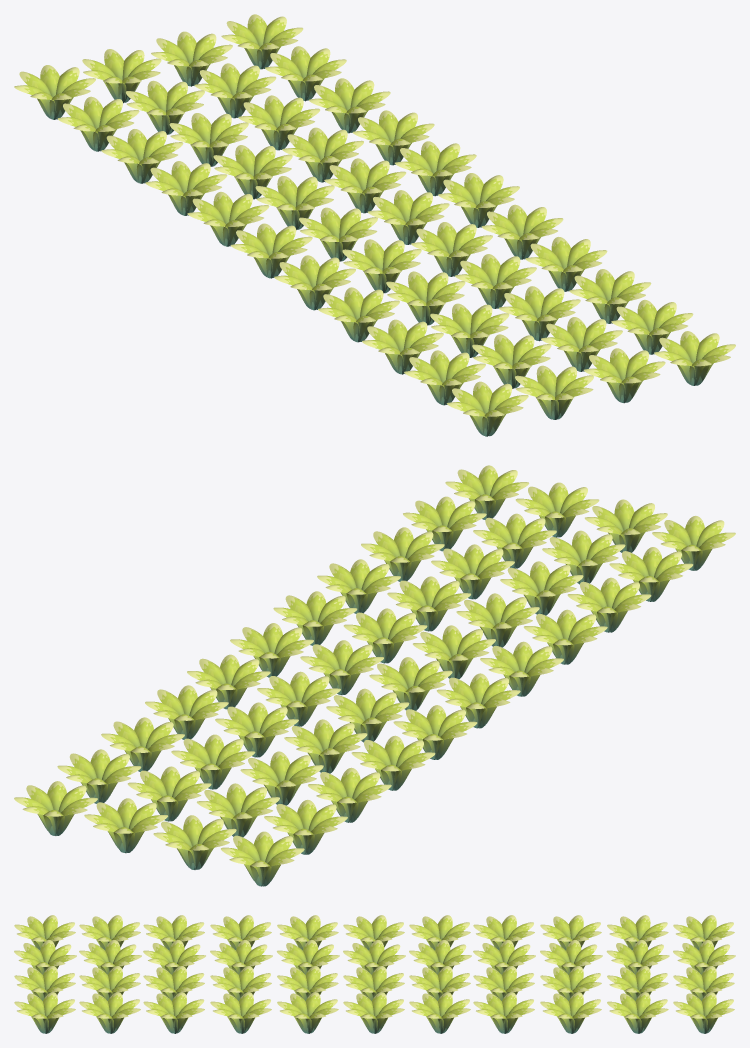
Rendered from semak.fbx.
3 views of the same model, one above another, from view 1: azimuth 30°, elevation 25°; view 2: azimuth 150°, elevation 25°; view 3: azimuth 270°, elevation 25° (orthographic). The views are drawn at different scales.
Parts seen in each view (by area): view 1: ASET SEMAK UNWRAP.003, semak.003|ASET SEMAK UNWRAP.003|Dupli|, semak.002|ASET SEMAK UNWRAP.003|Dupli|, semak.007|ASET SEMAK UNWRAP.003|Dupli|, semak.008|ASET SEMAK UNWRAP.003|Dupli|, semak.009|ASET SEMAK UNWRAP.003|Dupli|, semak.004|ASET SEMAK UNWRAP.003|Dupli|, semak.005|ASET SEMAK UNWRAP.003|Dupli|, semak|ASET SEMAK UNWRAP.003|Dupli|, semak.001|ASET SEMAK UNWRAP.003|Dupli|, semak.006|ASET SEMAK UNWRAP.003|Dupli|; view 2: semak.009|ASET SEMAK UNWRAP.003|Dupli|, semak.006|ASET SEMAK UNWRAP.003|Dupli|, semak.007|ASET SEMAK UNWRAP.003|Dupli|, semak.002|ASET SEMAK UNWRAP.003|Dupli|, semak.001|ASET SEMAK UNWRAP.003|Dupli|, semak.008|ASET SEMAK UNWRAP.003|Dupli|, semak.004|ASET SEMAK UNWRAP.003|Dupli|, semak.003|ASET SEMAK UNWRAP.003|Dupli|, ASET SEMAK UNWRAP.003, semak.005|ASET SEMAK UNWRAP.003|Dupli|, semak|ASET SEMAK UNWRAP.003|Dupli|; view 3: semak.001|ASET SEMAK UNWRAP.003|Dupli|, semak.006|ASET SEMAK UNWRAP.003|Dupli|, semak|ASET SEMAK UNWRAP.003|Dupli|, semak.009|ASET SEMAK UNWRAP.003|Dupli|, ASET SEMAK UNWRAP.003, semak.002|ASET SEMAK UNWRAP.003|Dupli|, semak.007|ASET SEMAK UNWRAP.003|Dupli|, semak.008|ASET SEMAK UNWRAP.003|Dupli|, semak.005|ASET SEMAK UNWRAP.003|Dupli|, semak.003|ASET SEMAK UNWRAP.003|Dupli|, semak.004|ASET SEMAK UNWRAP.003|Dupli|.
Part boxes in pixels (x1=…): ASET SEMAK UNWRAP.003: x1=446, y1=331, x2=735, y2=436; semak.003|ASET SEMAK UNWRAP.003|Dupli|: x1=274, y1=204, x2=563, y2=310; semak.002|ASET SEMAK UNWRAP.003|Dupli|: x1=318, y1=236, x2=607, y2=342; semak.007|ASET SEMAK UNWRAP.003|Dupli|: x1=101, y1=78, x2=390, y2=183; semak.008|ASET SEMAK UNWRAP.003|Dupli|: x1=57, y1=46, x2=346, y2=151; semak.009|ASET SEMAK UNWRAP.003|Dupli|: x1=14, y1=14, x2=303, y2=119; semak.004|ASET SEMAK UNWRAP.003|Dupli|: x1=230, y1=173, x2=519, y2=278; semak.005|ASET SEMAK UNWRAP.003|Dupli|: x1=187, y1=141, x2=476, y2=246; semak|ASET SEMAK UNWRAP.003|Dupli|: x1=404, y1=299, x2=693, y2=405; semak.001|ASET SEMAK UNWRAP.003|Dupli|: x1=362, y1=269, x2=651, y2=374; semak.006|ASET SEMAK UNWRAP.003|Dupli|: x1=145, y1=110, x2=434, y2=215; semak.009|ASET SEMAK UNWRAP.003|Dupli|: x1=14, y1=781, x2=304, y2=886; semak.006|ASET SEMAK UNWRAP.003|Dupli|: x1=145, y1=685, x2=435, y2=790; semak.007|ASET SEMAK UNWRAP.003|Dupli|: x1=101, y1=717, x2=391, y2=822; semak.002|ASET SEMAK UNWRAP.003|Dupli|: x1=317, y1=559, x2=607, y2=664; semak.001|ASET SEMAK UNWRAP.003|Dupli|: x1=361, y1=527, x2=651, y2=632; semak.008|ASET SEMAK UNWRAP.003|Dupli|: x1=57, y1=749, x2=347, y2=854; semak.004|ASET SEMAK UNWRAP.003|Dupli|: x1=230, y1=623, x2=520, y2=728; semak.003|ASET SEMAK UNWRAP.003|Dupli|: x1=273, y1=591, x2=563, y2=696; ASET SEMAK UNWRAP.003: x1=445, y1=465, x2=735, y2=570; semak.005|ASET SEMAK UNWRAP.003|Dupli|: x1=187, y1=654, x2=477, y2=759; semak|ASET SEMAK UNWRAP.003|Dupli|: x1=403, y1=496, x2=693, y2=601; semak.001|ASET SEMAK UNWRAP.003|Dupli|: x1=143, y1=915, x2=205, y2=1033; semak.006|ASET SEMAK UNWRAP.003|Dupli|: x1=473, y1=915, x2=535, y2=1033; semak|ASET SEMAK UNWRAP.003|Dupli|: x1=79, y1=915, x2=141, y2=1033; semak.009|ASET SEMAK UNWRAP.003|Dupli|: x1=673, y1=915, x2=735, y2=1033; ASET SEMAK UNWRAP.003: x1=14, y1=915, x2=76, y2=1033; semak.002|ASET SEMAK UNWRAP.003|Dupli|: x1=210, y1=915, x2=272, y2=1033; semak.007|ASET SEMAK UNWRAP.003|Dupli|: x1=540, y1=915, x2=602, y2=1033; semak.008|ASET SEMAK UNWRAP.003|Dupli|: x1=606, y1=915, x2=669, y2=1033; semak.005|ASET SEMAK UNWRAP.003|Dupli|: x1=409, y1=915, x2=471, y2=1033; semak.003|ASET SEMAK UNWRAP.003|Dupli|: x1=276, y1=915, x2=339, y2=1033; semak.004|ASET SEMAK UNWRAP.003|Dupli|: x1=343, y1=915, x2=405, y2=1033.
Size of the model in its own units: 1026 by 128 by 3035.
